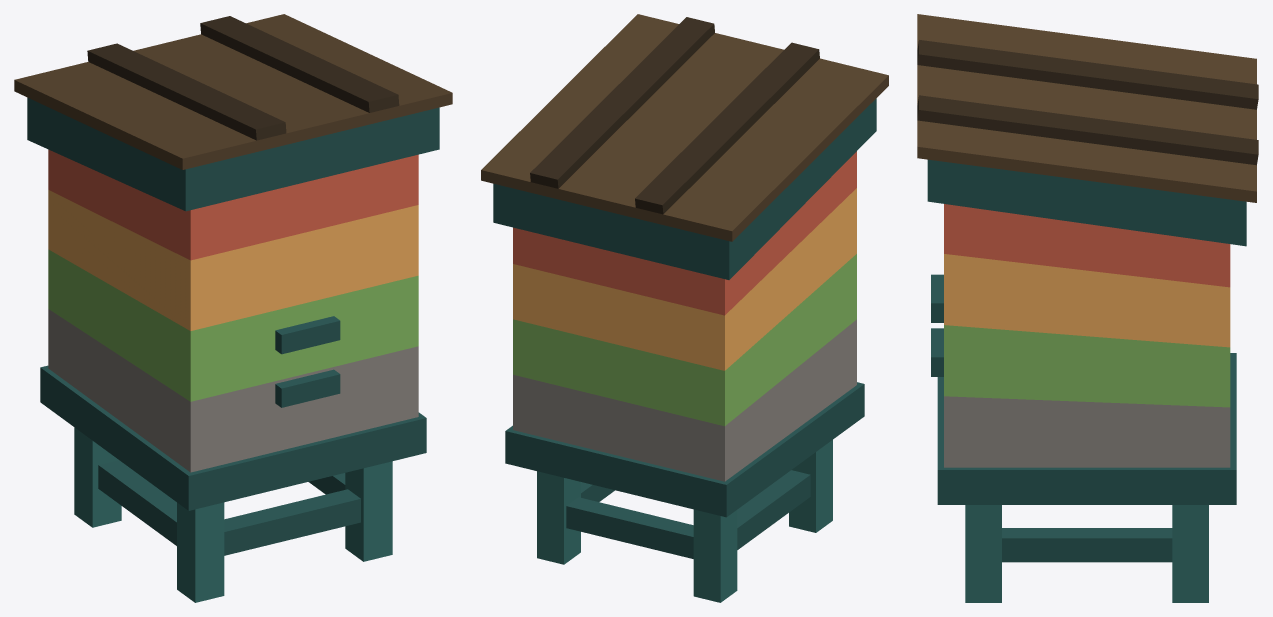
Rendered from Beehive_4.fbx.
The picture shows the model from 3 angles, left to right: view 1: azimuth 30°, elevation 25°; view 2: azimuth 150°, elevation 25°; view 3: azimuth 270°, elevation 25°; orthographic projection. The views are drawn at different scales.
Parts seen in each view (by area): view 1: Beehive_4; view 2: Beehive_4; view 3: Beehive_4.
Part boxes in pixels (x1,y1,x2,y2): Beehive_4: (14,14,452,602); Beehive_4: (481,14,888,602); Beehive_4: (917,14,1258,602).
Size of the model in its own units: 72.58 by 124 by 78.84.
